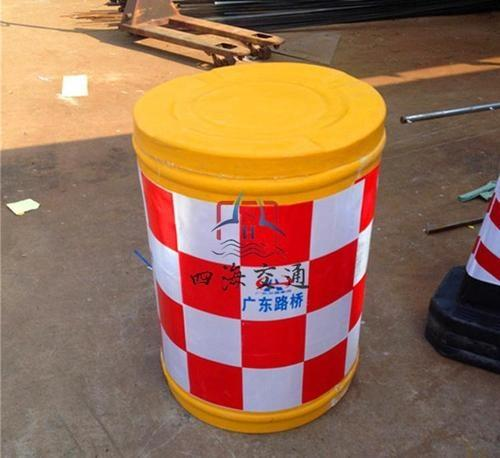cone_barrel: (126, 55, 391, 436)
